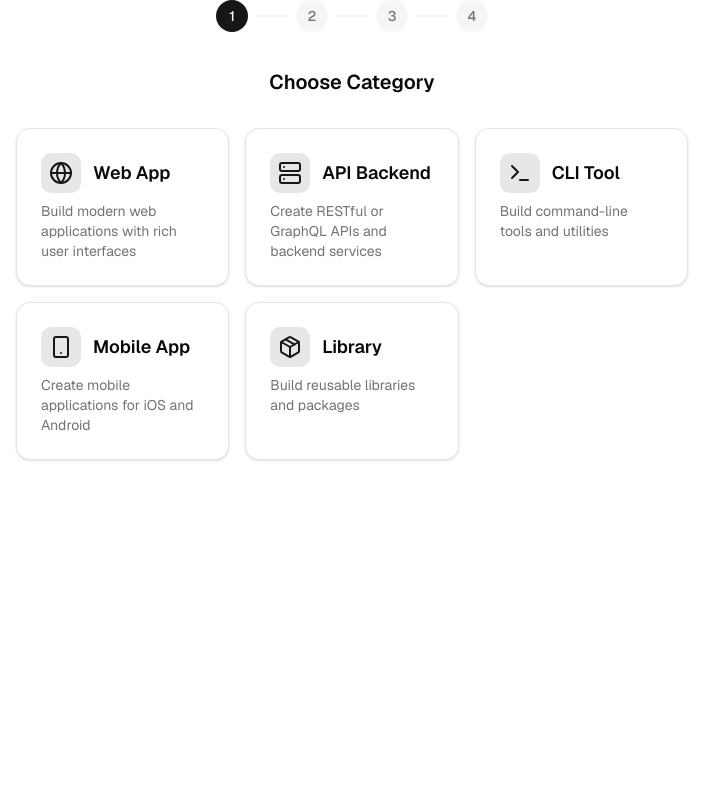
Test case: PrdWizard › advances to step 2 (Fill Form) when category is selected
Click the button with test id "category-card-web-app": coordinates (123, 207) [16,128,229,286]
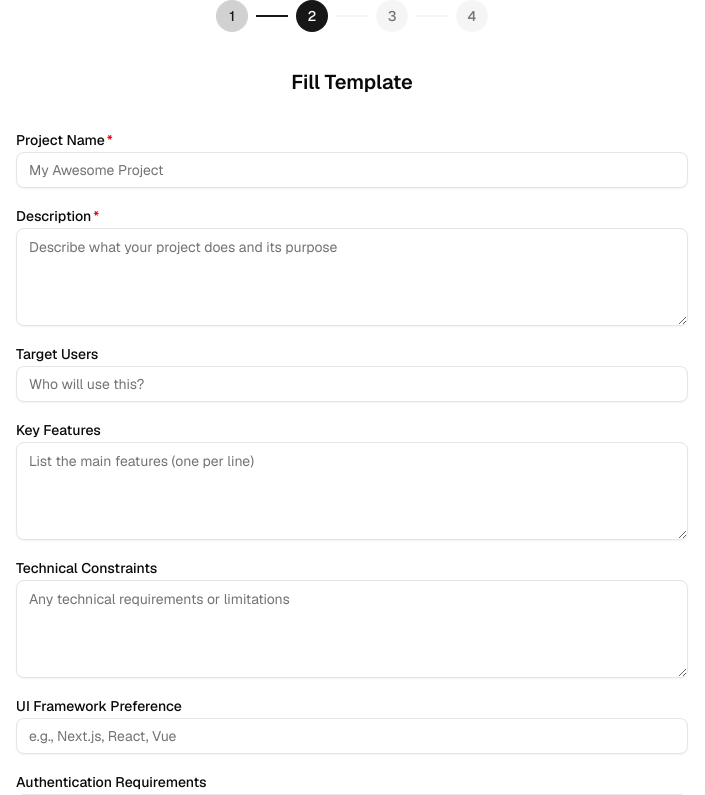
Result: the heading "Fill Template" is shown at [291,69,413,95]
